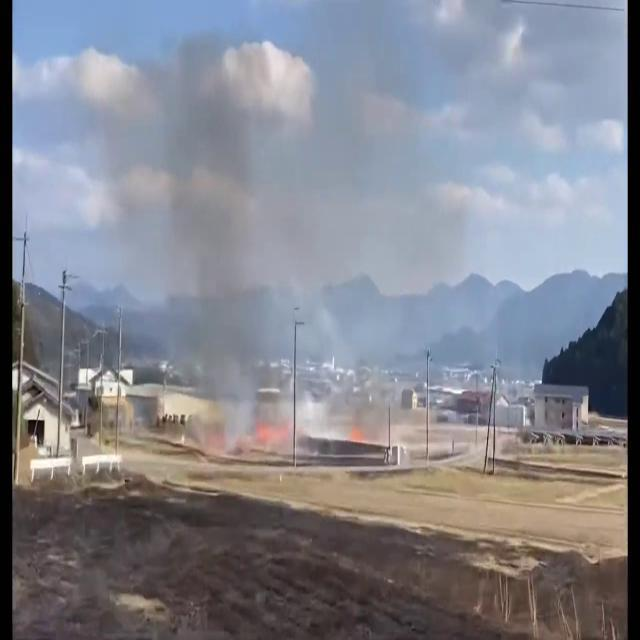Smoke: (136, 28, 384, 442)
